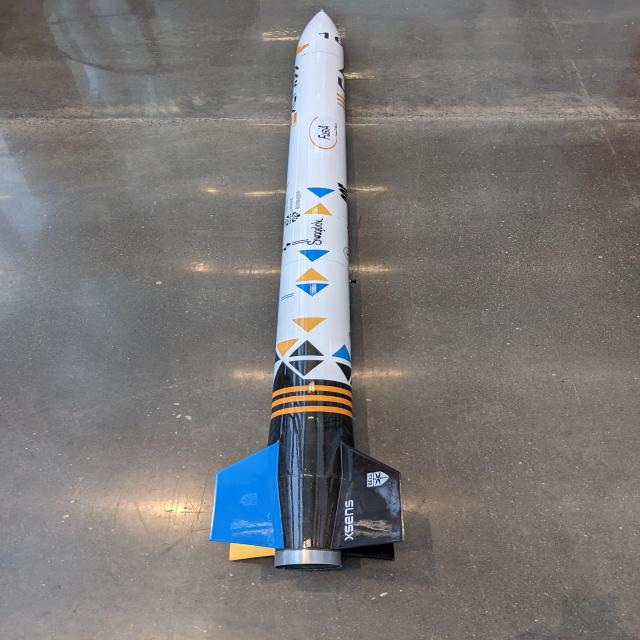Rocket: (208, 9, 405, 572)
